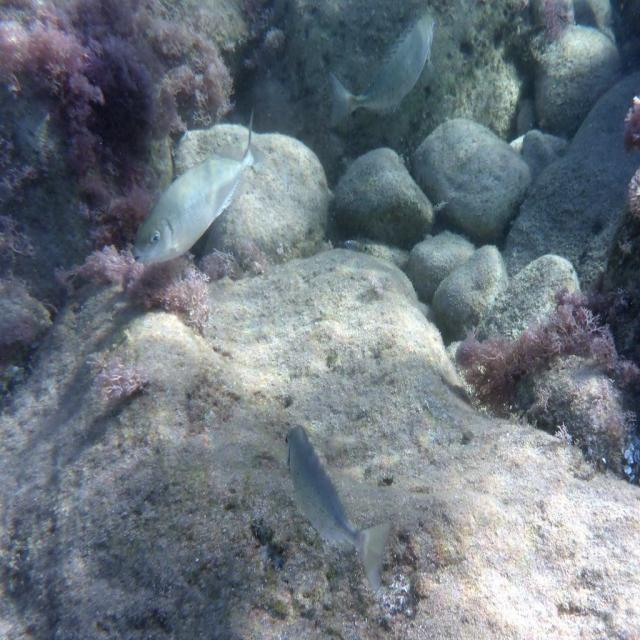Sokar Baligi: (267, 406, 405, 604), (124, 101, 266, 289), (318, 0, 443, 133)
